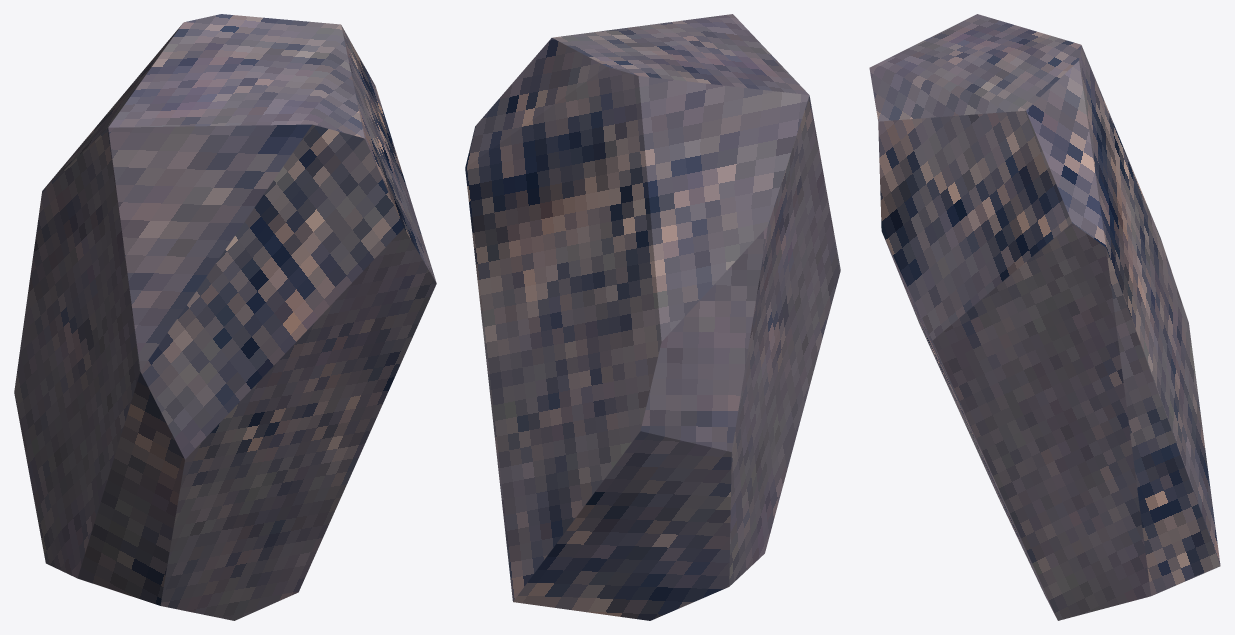
File: rock1.glb
The picture shows the model from 3 angles, left to right: view 1: azimuth 30°, elevation 25°; view 2: azimuth 150°, elevation 25°; view 3: azimuth 270°, elevation 25°; orthographic projection. The views are drawn at different scales.
Parts seen in each view (by area): view 1: big rock; view 2: big rock; view 3: big rock.
Boxes of the visible parts, <box> form: big rock: <box>14,14,436,620</box>; big rock: <box>465,14,840,620</box>; big rock: <box>869,14,1220,620</box>.
Bounding box in the file's own units: 0.5073 × 0.8703 × 0.5162.
1 material, 1 textured.
